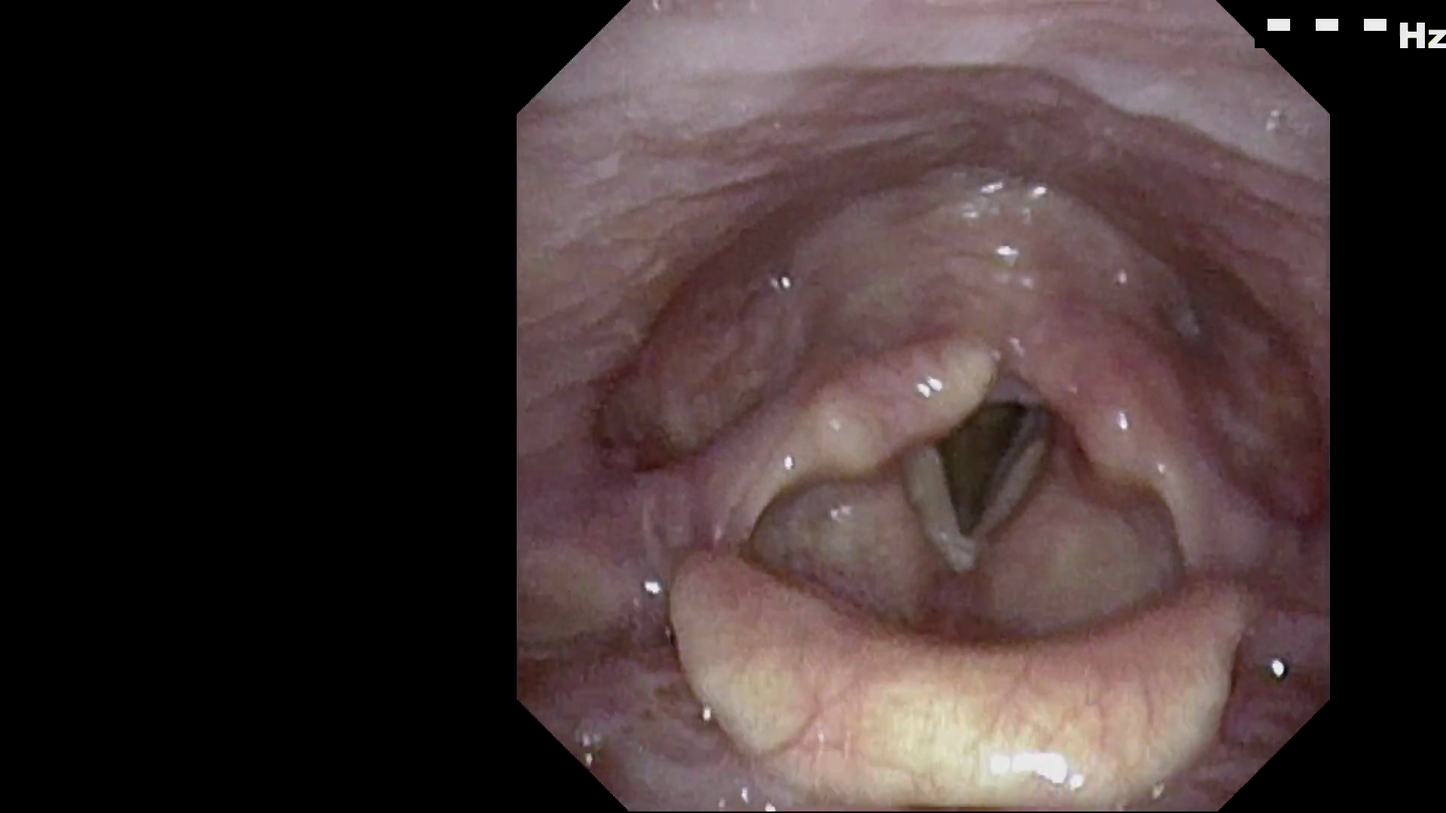epiglottis: (668, 575, 1242, 770)
trachea: (901, 384, 1067, 556)
